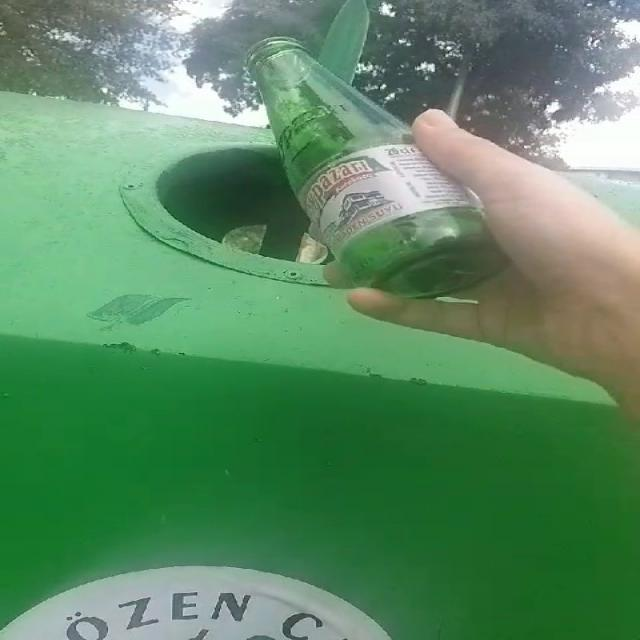Glass: (247, 36, 501, 296)
